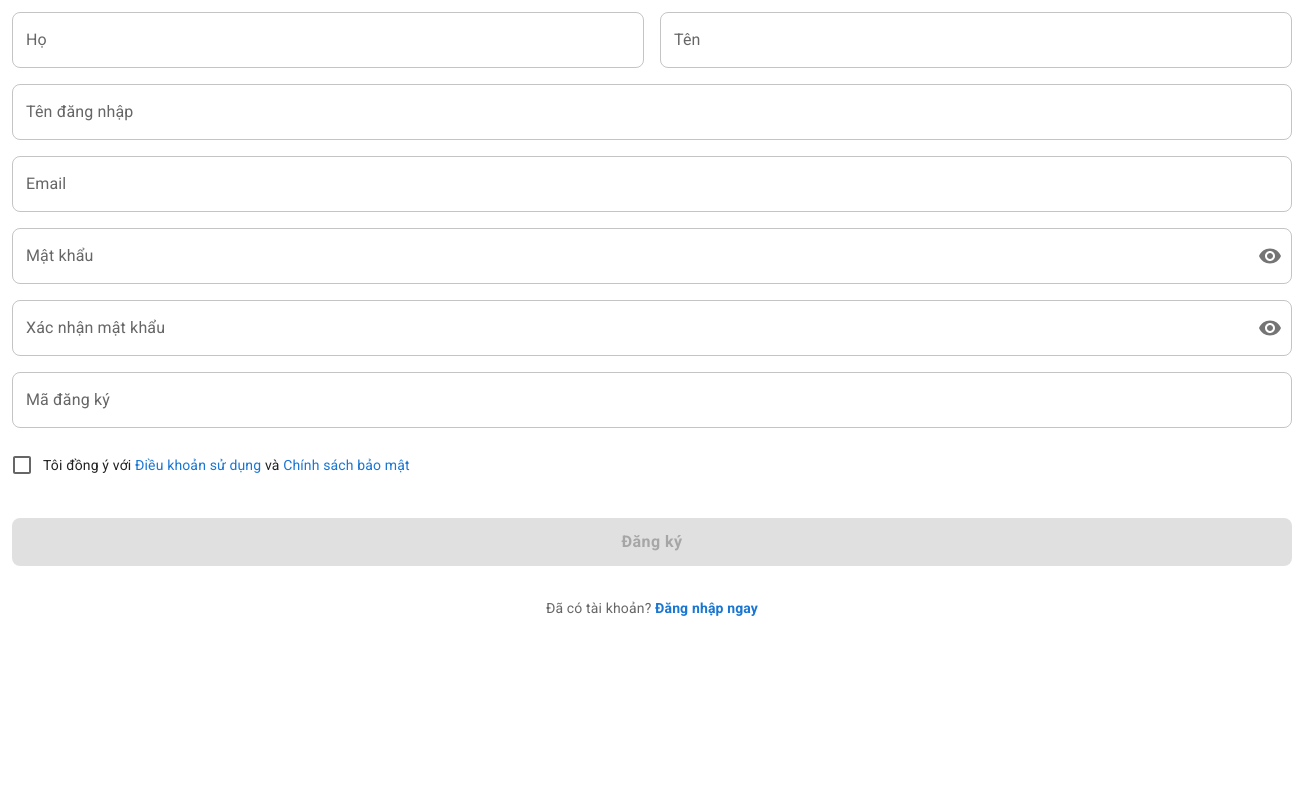
Scenario: RegisterForm Component › Rendering › should render password strength indicator
The width and height of the screenshot is (1304, 812).
Type "weak" into the password field with test id "password-input".
click(627, 256); type("weak")  # box [12,228,1242,284]
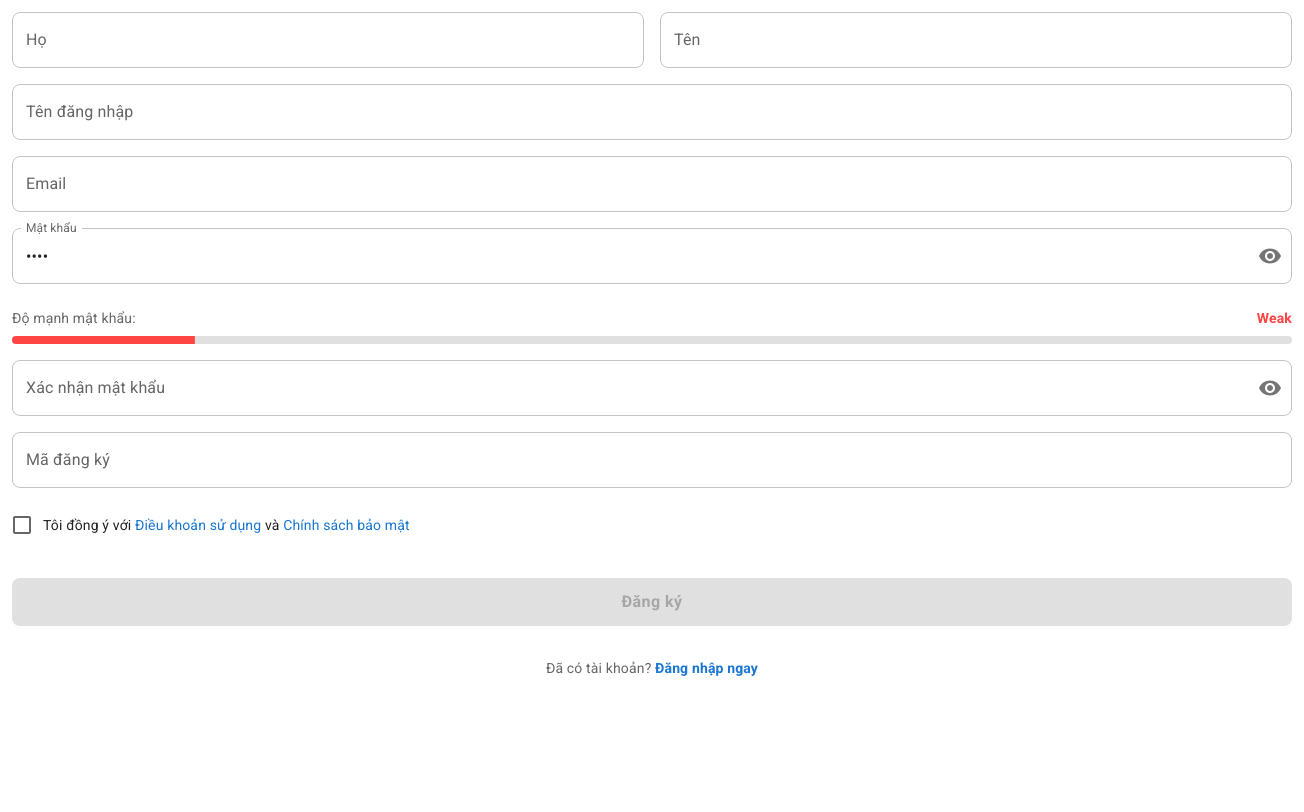
Expected: the text "Độ mạnh mật khẩu:" is shown, [12,308,136,328]
